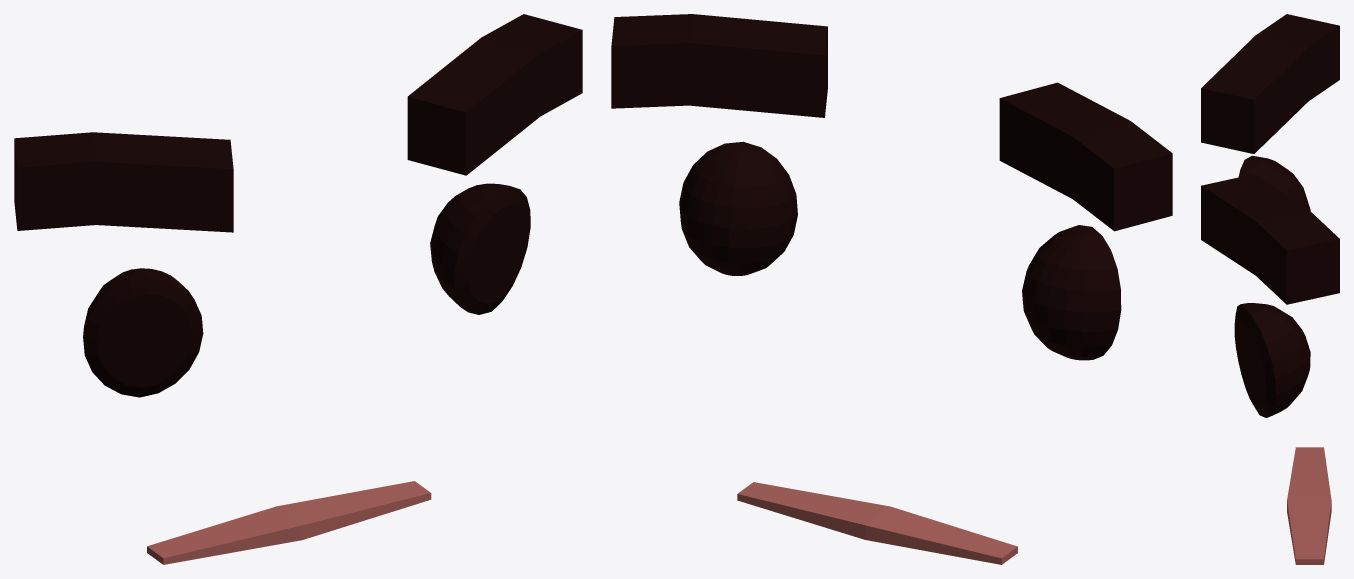
3 views of the same model, side by side, from view 1: azimuth 30°, elevation 25°; view 2: azimuth 150°, elevation 25°; view 3: azimuth 270°, elevation 25° (orthographic). The views are drawn at different scales.
Parts seen in each view (by area): view 1: brows1, eye1, mouth1; view 2: brows1, eye1, mouth1; view 3: brows1, eye1, mouth1.
Boxes of the visible parts, x1,y1,x2,y2 form: brows1: [14, 14, 582, 232]; eye1: [83, 183, 530, 397]; mouth1: [147, 481, 431, 564]; brows1: [611, 14, 1172, 231]; eye1: [679, 141, 1121, 360]; mouth1: [737, 482, 1017, 564]; brows1: [1201, 14, 1339, 304]; eye1: [1234, 155, 1310, 417]; mouth1: [1287, 447, 1331, 564].
Bounding box in the file's own units: 66.99 × 50.58 × 16.62.
